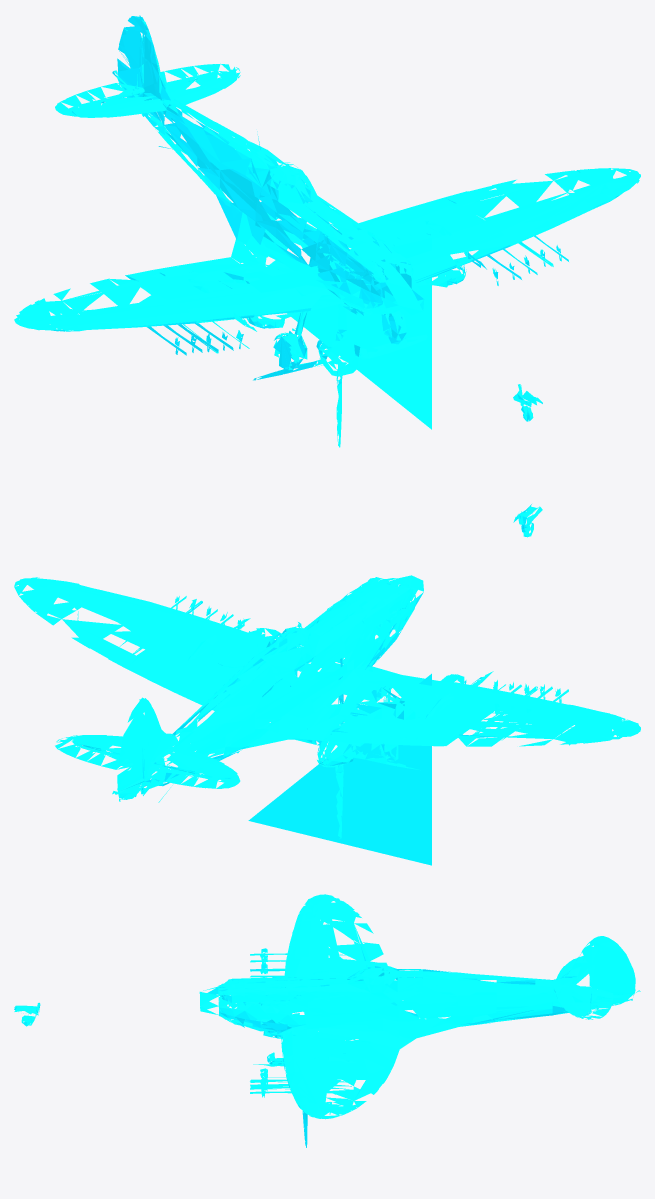
File: PBAF208.glb
The picture shows the model from 3 angles, top to bottom: view 1: azimuth 30°, elevation 25°; view 2: azimuth 150°, elevation 25°; view 3: azimuth 270°, elevation 25°; orthographic projection. The views are drawn at different scales.
Parts seen in each view (by area): view 1: misc; view 2: misc; view 3: misc.
Boxes of the visible parts, left/top/right/bottom form: misc: left=14, top=15, right=640, bottom=447; misc: left=14, top=504, right=640, bottom=865; misc: left=14, top=894, right=640, bottom=1147.
Bounding box in the file's own units: 0.7472 × 0.3341 × 0.8809.
